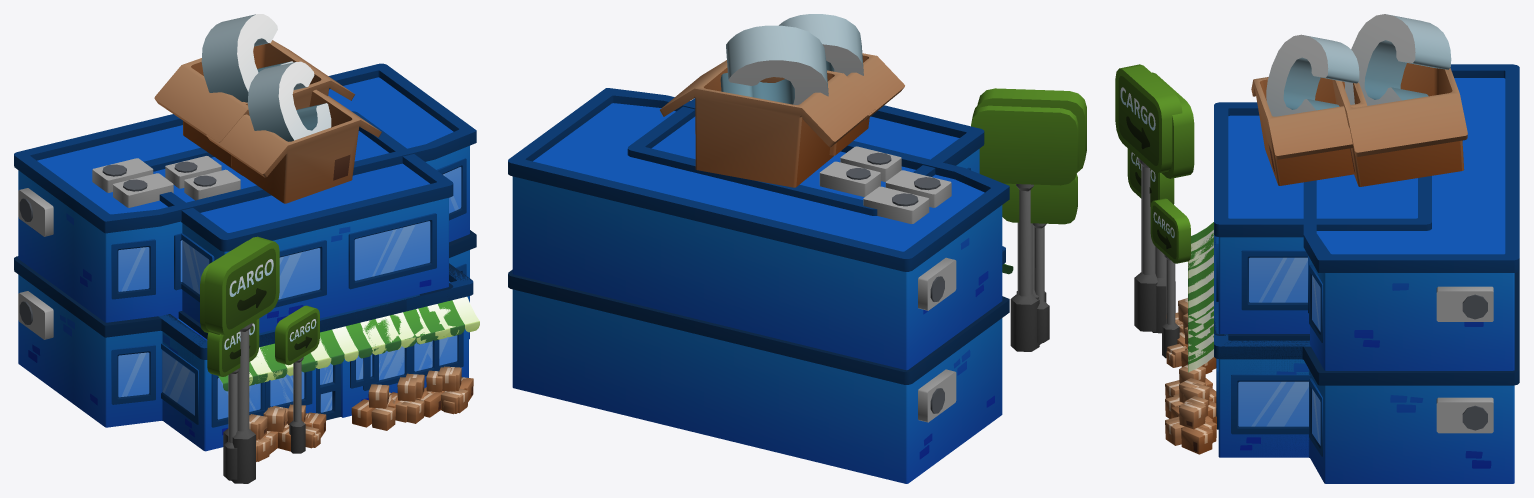
File: Cargo.fbx
The picture shows the model from 3 angles, left to right: view 1: azimuth 30°, elevation 25°; view 2: azimuth 150°, elevation 25°; view 3: azimuth 270°, elevation 25°; orthographic projection. The views are drawn at different scales.
Parts seen in each view (by area): view 1: Store Cargo Level 5, Store Cargo Level 4, Store Cargo Level 3, Store Cargo Level 1, Store Cargo Level 2; view 2: Store Cargo Level 5, Store Cargo Level 4, Store Cargo Level 3; view 3: Store Cargo Level 5, Store Cargo Level 4, Store Cargo Level 3, Store Cargo Level 1, Store Cargo Level 2.
Boxes of the visible parts, left/top/right/bottom form: Store Cargo Level 5: left=14, top=14, right=476, bottom=483; Store Cargo Level 4: left=143, top=61, right=459, bottom=480; Store Cargo Level 3: left=158, top=268, right=479, bottom=479; Store Cargo Level 1: left=275, top=301, right=398, bottom=453; Store Cargo Level 2: left=259, top=294, right=429, bottom=448; Store Cargo Level 5: left=508, top=25, right=1086, bottom=483; Store Cargo Level 4: left=627, top=14, right=1078, bottom=351; Store Cargo Level 3: left=1002, top=174, right=1077, bottom=342; Store Cargo Level 5: left=1115, top=14, right=1519, bottom=483; Store Cargo Level 4: left=1152, top=34, right=1431, bottom=442; Store Cargo Level 3: left=1127, top=148, right=1310, bottom=457; Store Cargo Level 1: left=1150, top=198, right=1216, bottom=398; Store Cargo Level 2: left=1165, top=236, right=1218, bottom=418.
Size of the model in its own units: 1923 by 1653 by 1618.
